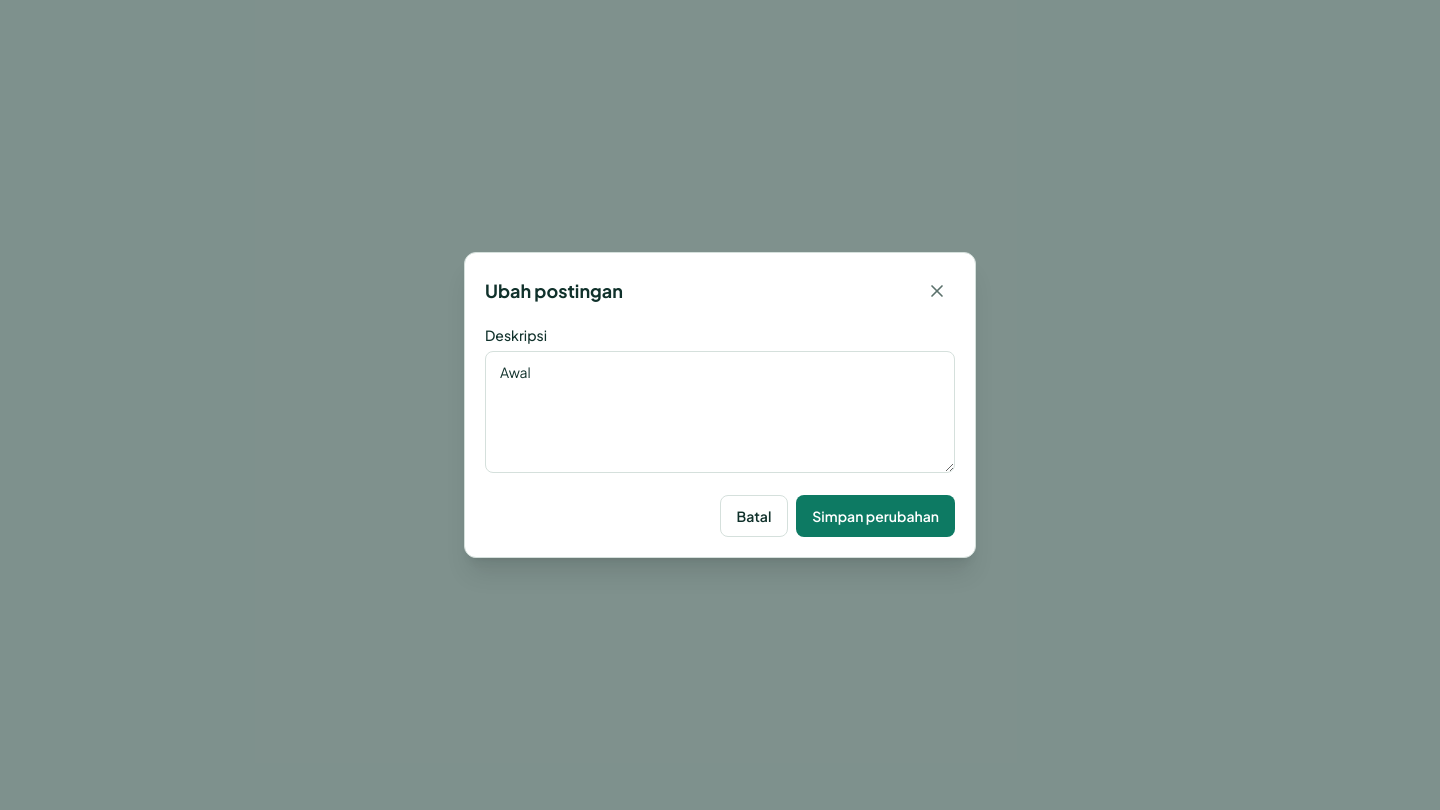
Test: ChangeModal › menolak deskripsi kosong
Clear the text box labelled "Deskripsi". click: (720, 412)
box: left=485, top=351, right=955, bottom=473
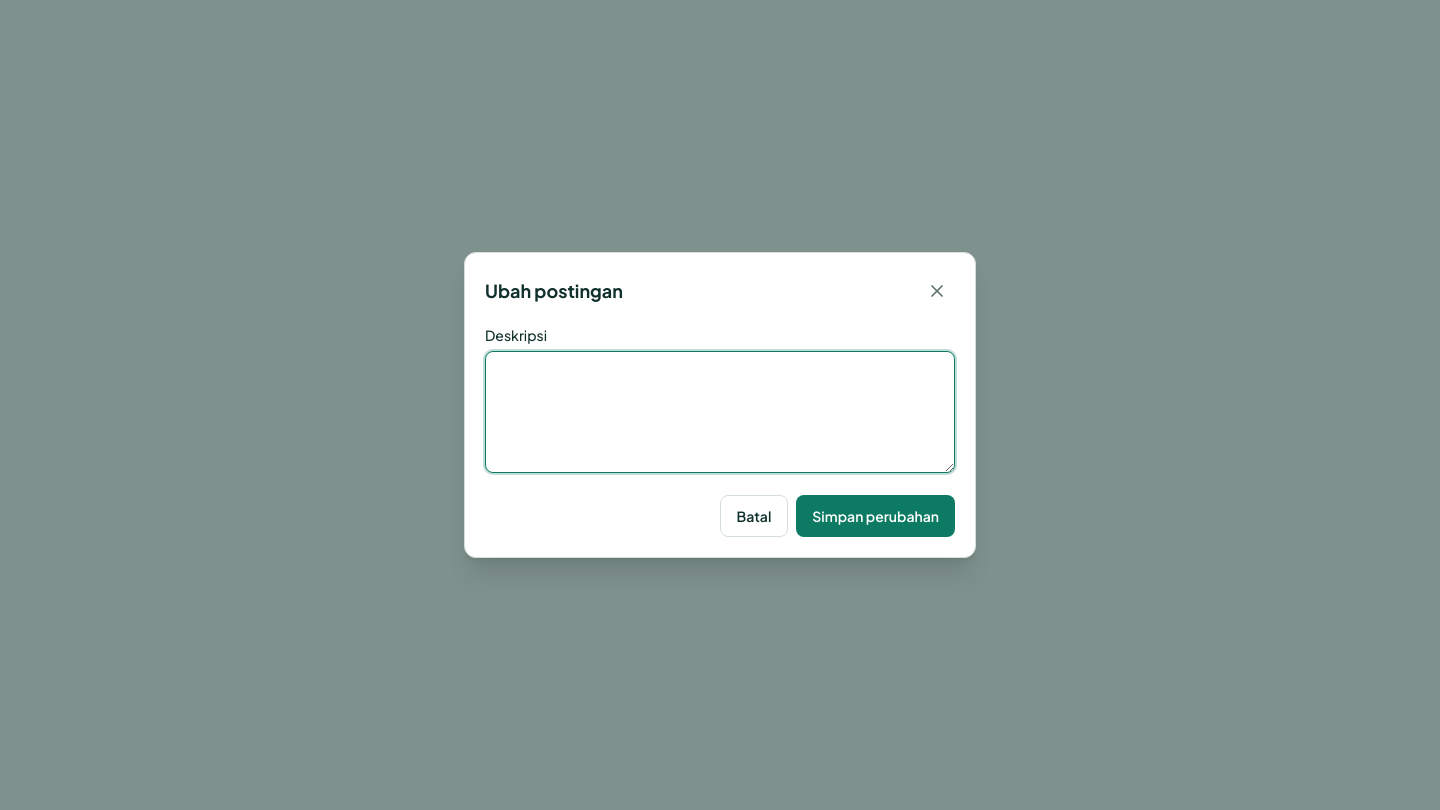
Click the button "Simpan perubahan". click: (876, 516)
box: left=796, top=495, right=955, bottom=537
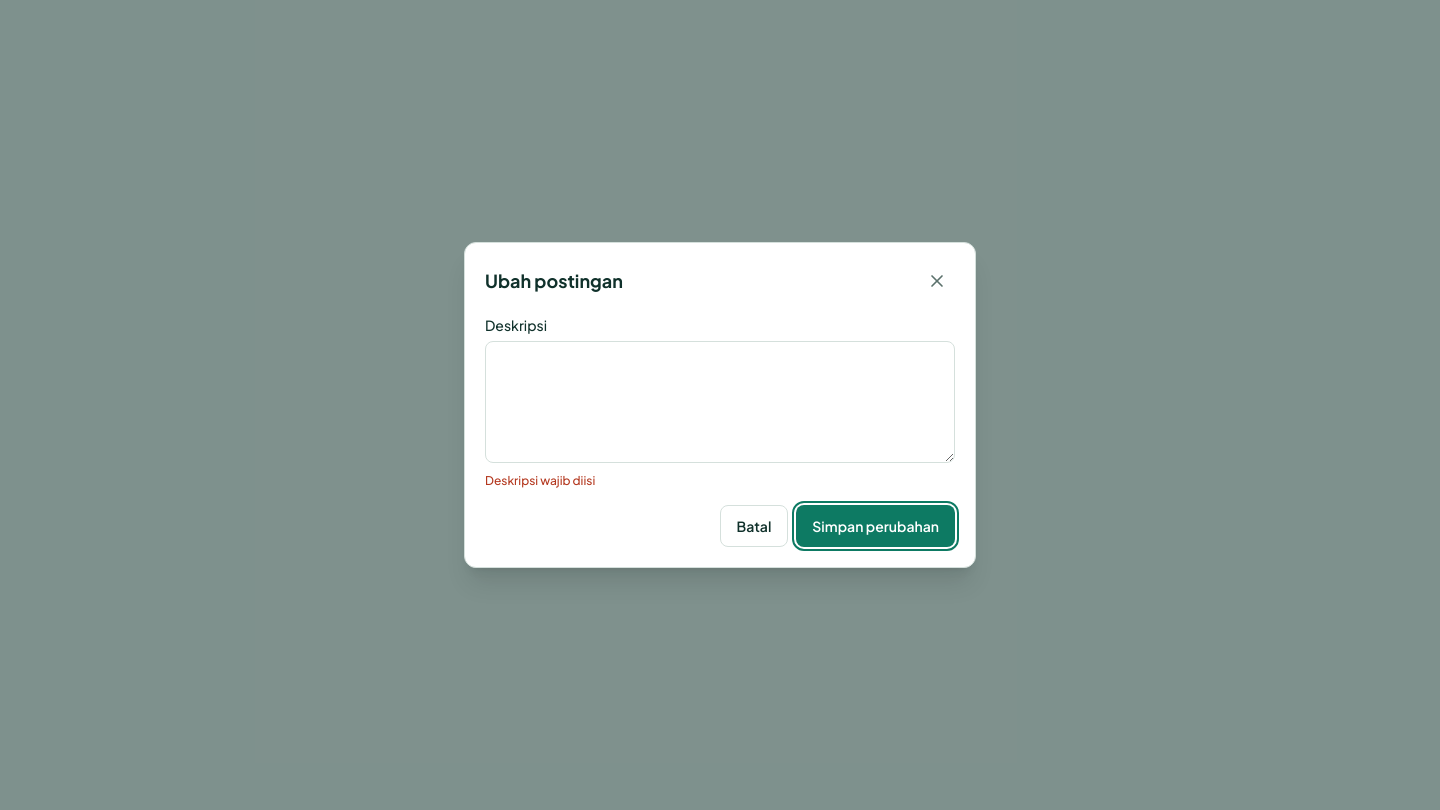
Expected: the text "Deskripsi wajib diisi" is shown, left=485, top=473, right=595, bottom=488
